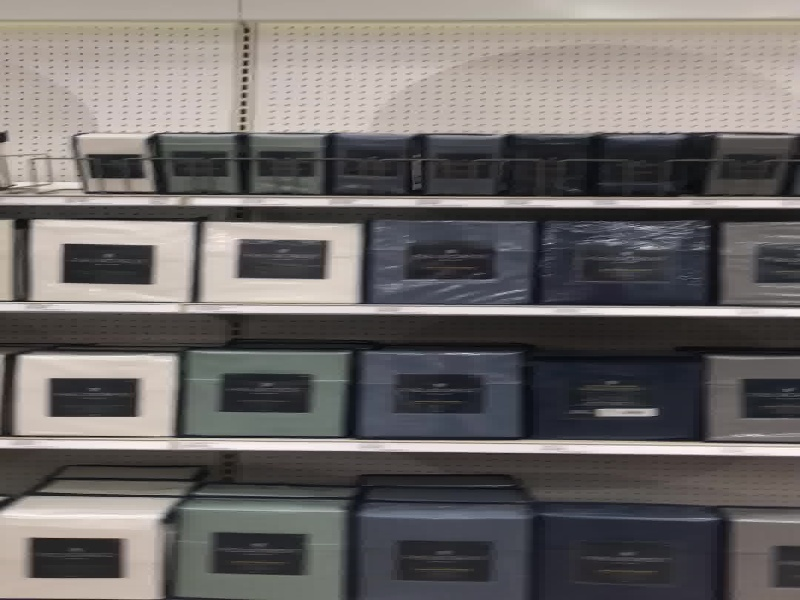empty_shelf_space: (9, 5, 81, 192)
